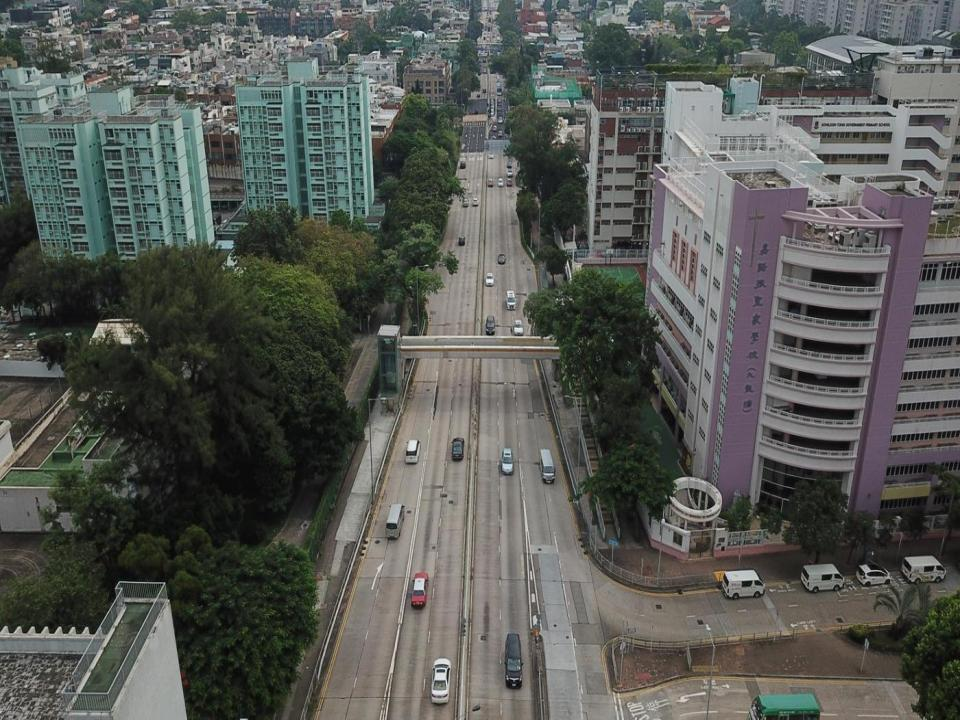car: (431, 658, 452, 702), (856, 563, 891, 585), (412, 572, 430, 608), (501, 448, 514, 476), (452, 436, 463, 461), (486, 274, 494, 285), (498, 254, 506, 264), (457, 236, 465, 246), (472, 197, 479, 207), (462, 198, 470, 206)
truck: (748, 693, 820, 719), (540, 448, 554, 483)
van: (801, 564, 845, 593), (722, 570, 764, 600), (902, 555, 946, 583), (504, 633, 524, 690), (386, 504, 405, 539), (404, 441, 420, 462), (486, 316, 495, 335), (506, 292, 515, 310), (512, 319, 523, 333)
